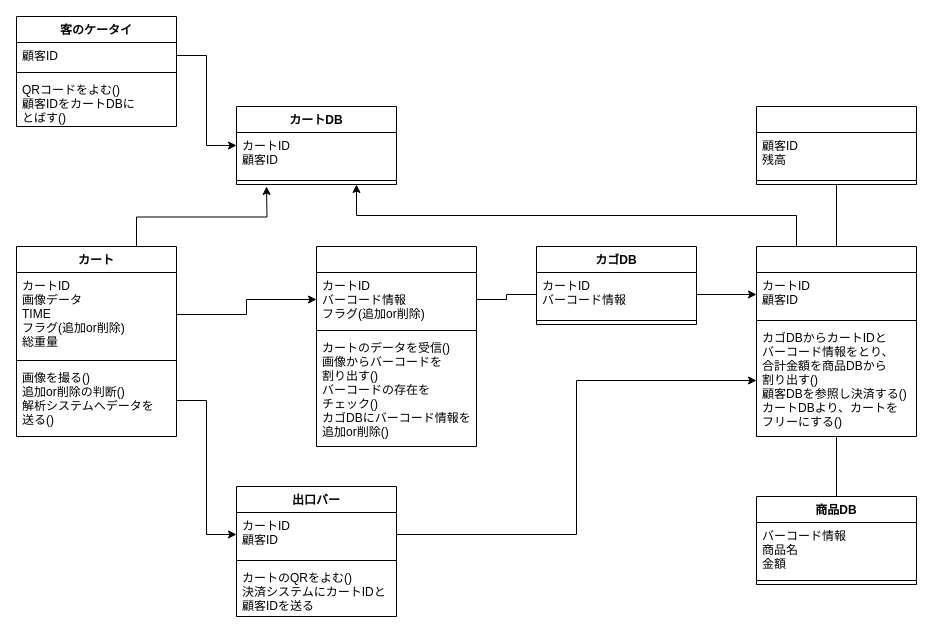
Image size: 933x633. Some labels were removed from this diagram. The shapes that lost their labels are listed below. From the top down, each one's box as (x1, y1, x2, y2) in pixels, then its label:
(756, 106, 916, 184): 顧客DB
(316, 246, 476, 446): 解析システム
(756, 246, 916, 436): 決済システム
